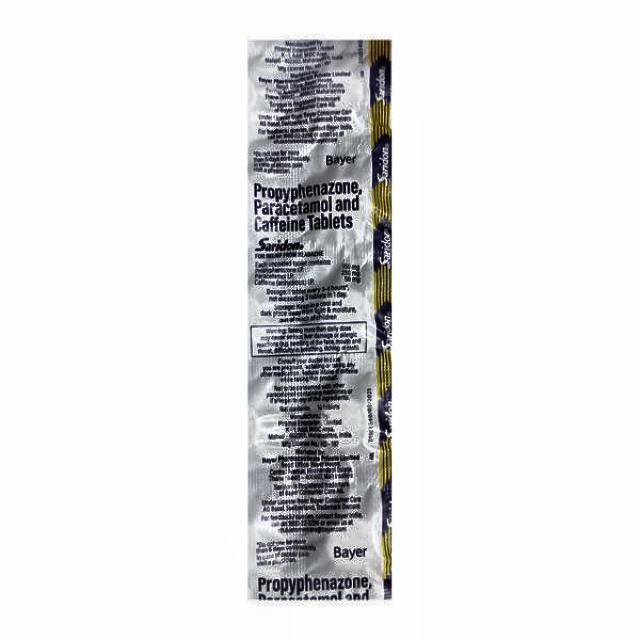Saridon: (247, 41, 397, 598)
